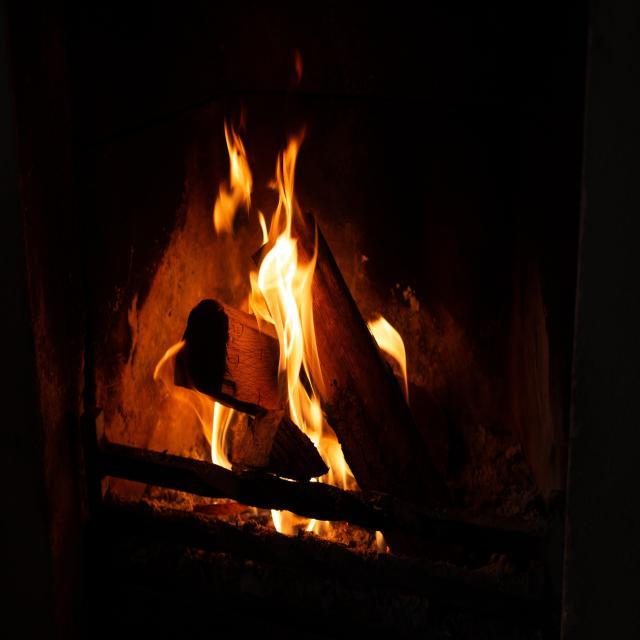Fire: (154, 119, 359, 492), (366, 314, 409, 404), (268, 508, 338, 544), (374, 529, 389, 554)
